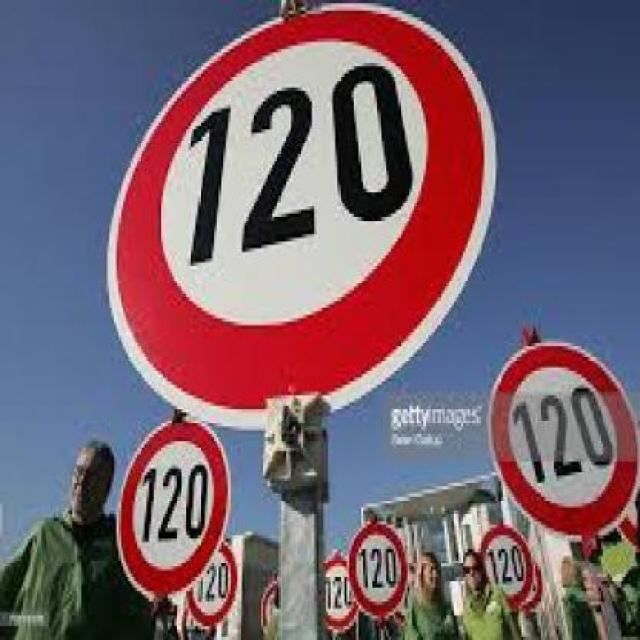forb_speed_over_120: (115, 7, 482, 390), (494, 347, 637, 531), (121, 419, 221, 590), (347, 526, 404, 617), (476, 526, 530, 599)
